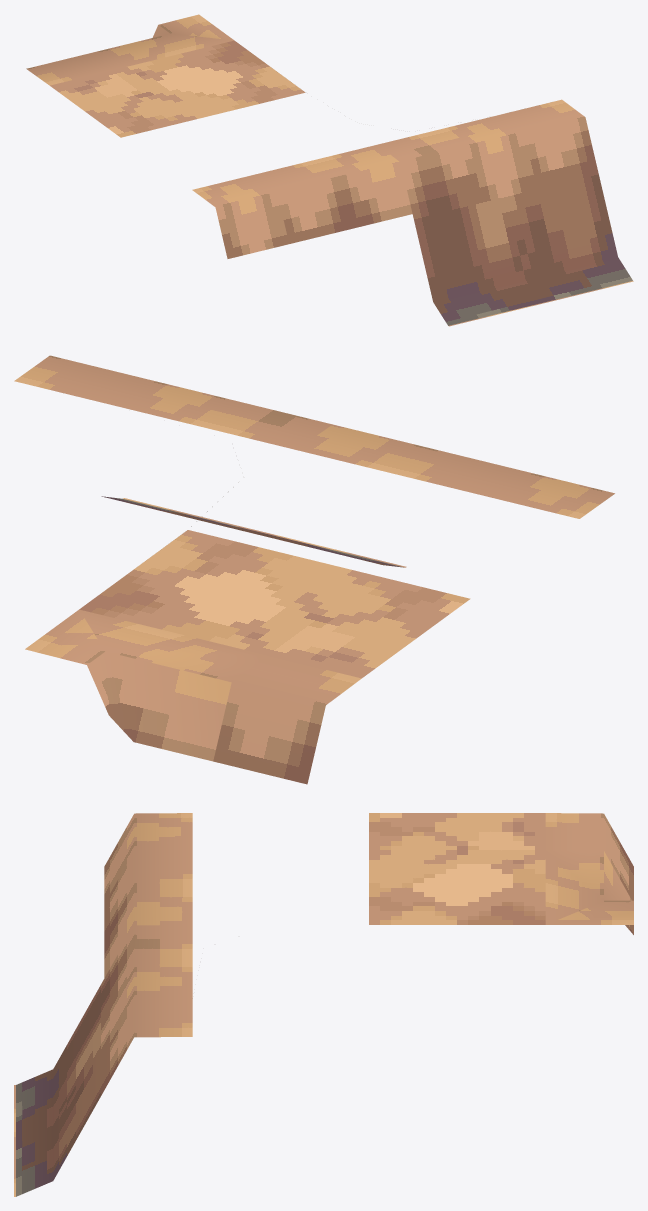
3 renders of one model, top to bottom at view 1: azimuth 30°, elevation 25°; view 2: azimuth 150°, elevation 25°; view 3: azimuth 270°, elevation 25°, orthographic. The views are drawn at different scales.
Size of the model in its own units: 3 by 1 by 3.51.
Materials: 3 (3 with a texture image).
